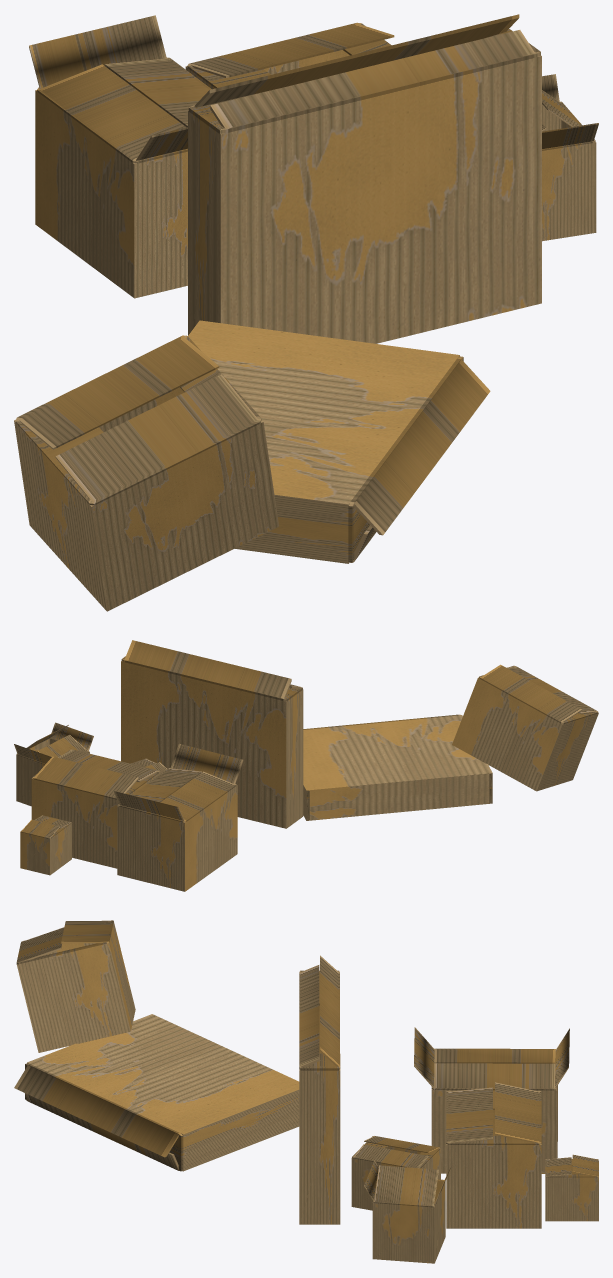
File: CardBox-ver01.fbx
The picture shows the model from 3 angles, top to bottom: view 1: azimuth 30°, elevation 25°; view 2: azimuth 150°, elevation 25°; view 3: azimuth 270°, elevation 25°; orthographic projection. The views are drawn at different scales.
Parts seen in each view (by area): view 1: CardBox_ver01; view 2: CardBox_ver01; view 3: CardBox_ver01.
Part boxes in pixels (<box>): CardBox_ver01: <box>14,14,598,611</box>; CardBox_ver01: <box>14,640,598,891</box>; CardBox_ver01: <box>14,920,598,1263</box>.
Size of the model in its own units: 214 by 71.06 by 216.
1 material, 1 textured.
